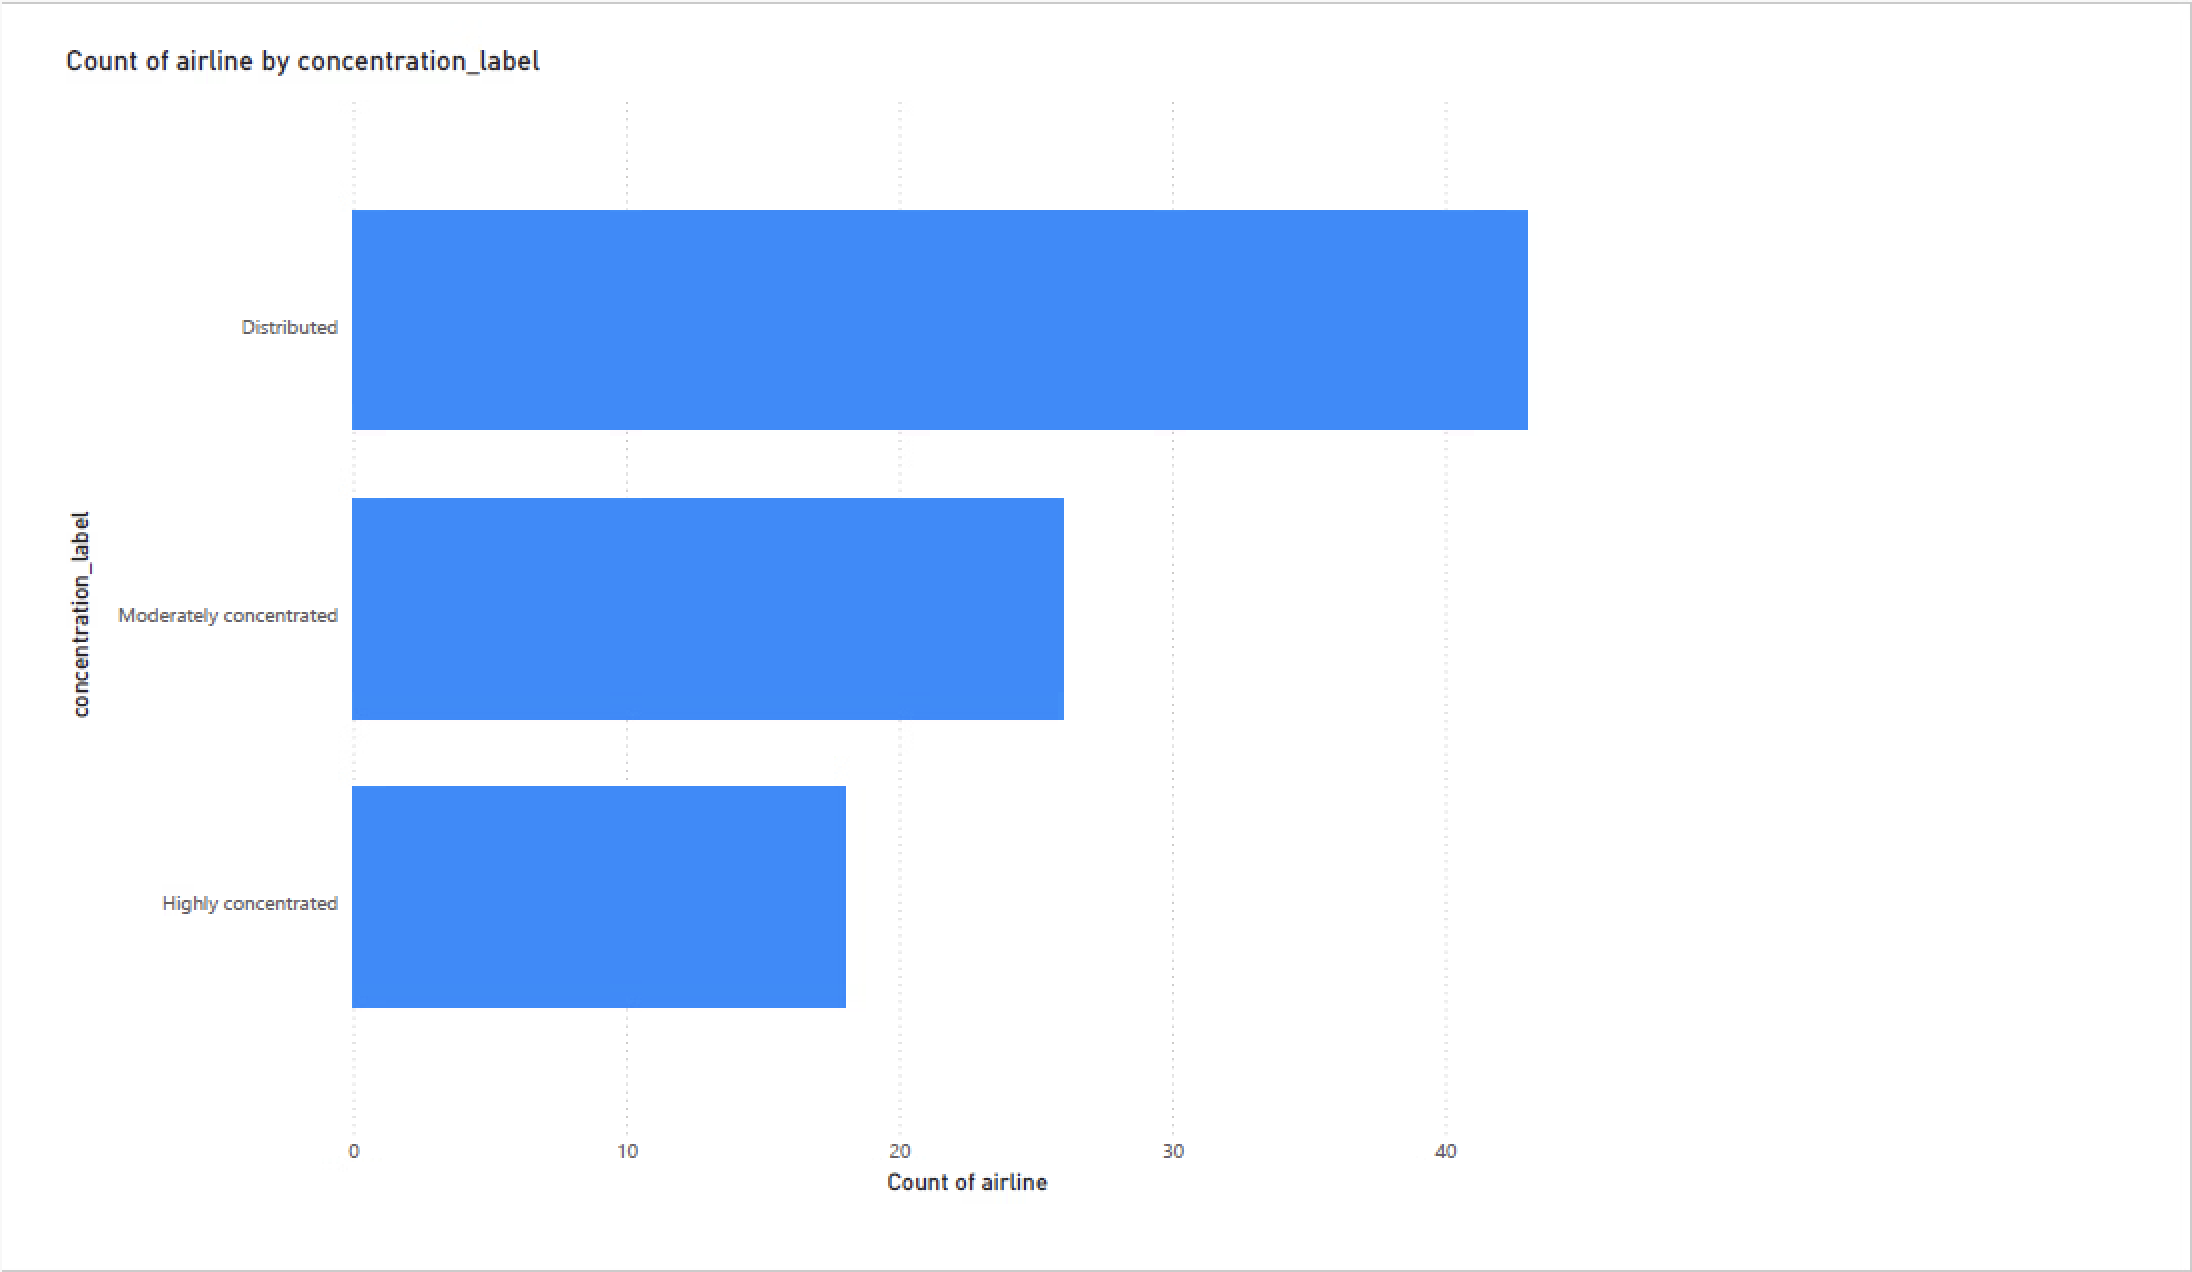

The dashboard page shown, as its layout file describes it:
{"tool":"powerbi","page":{"name":" Airline Network Concentration","canvas":[1280,720],"ordinal":3},"visuals":[{"type":"clusteredBarChart","fields":{"Category":["airline_network_concentration.concentration_label"],"Y":["CountNonNull(airline_network_concentration.airline)"]},"box":[9.9,0,936,703.4],"z":0}]}

Visuals, with their boxes on the page's 1280x720 design canvas (x1, y1, x2, y2). These are canvas units, not pixel positions in the 2192x1272 screenshot, which may show the page scaled, cropped or inside an application window:
clusteredBarChart - airline_network_concentration.concentration_label x CountNonNull(airline_network_concentration.airline): (left=10, top=0, right=946, bottom=703)
